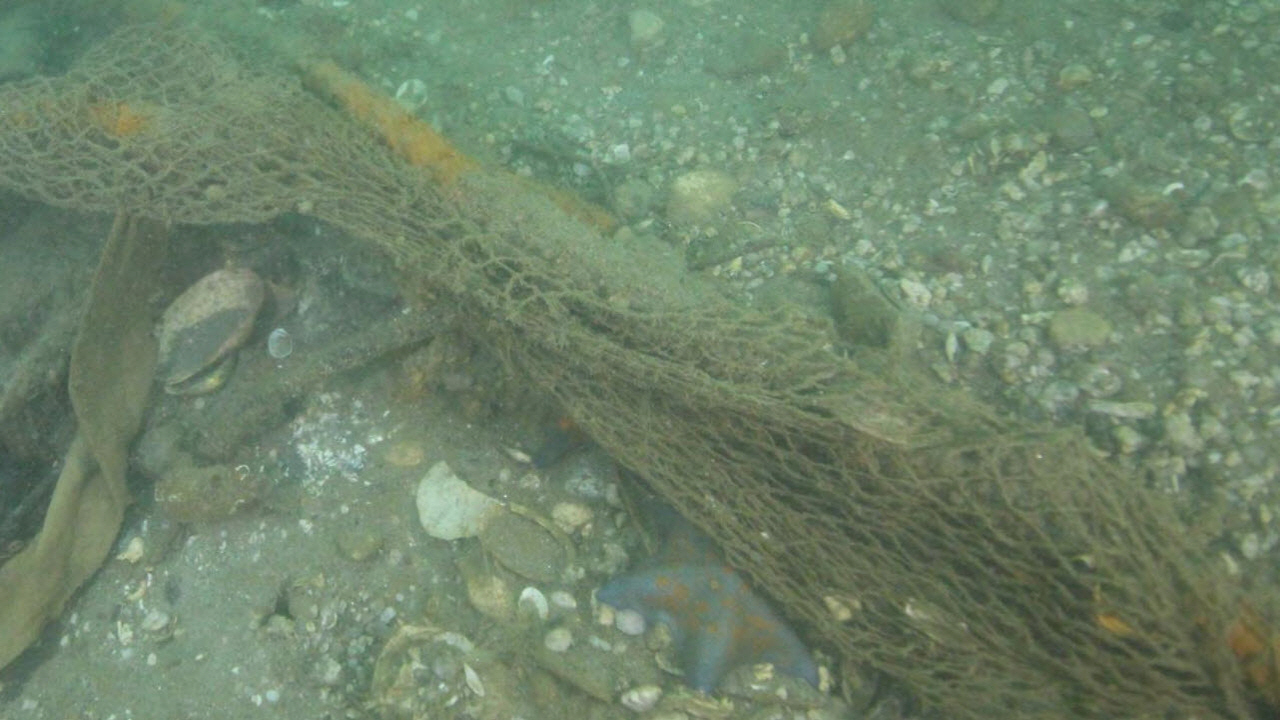fish net: (0, 22, 1280, 720)
